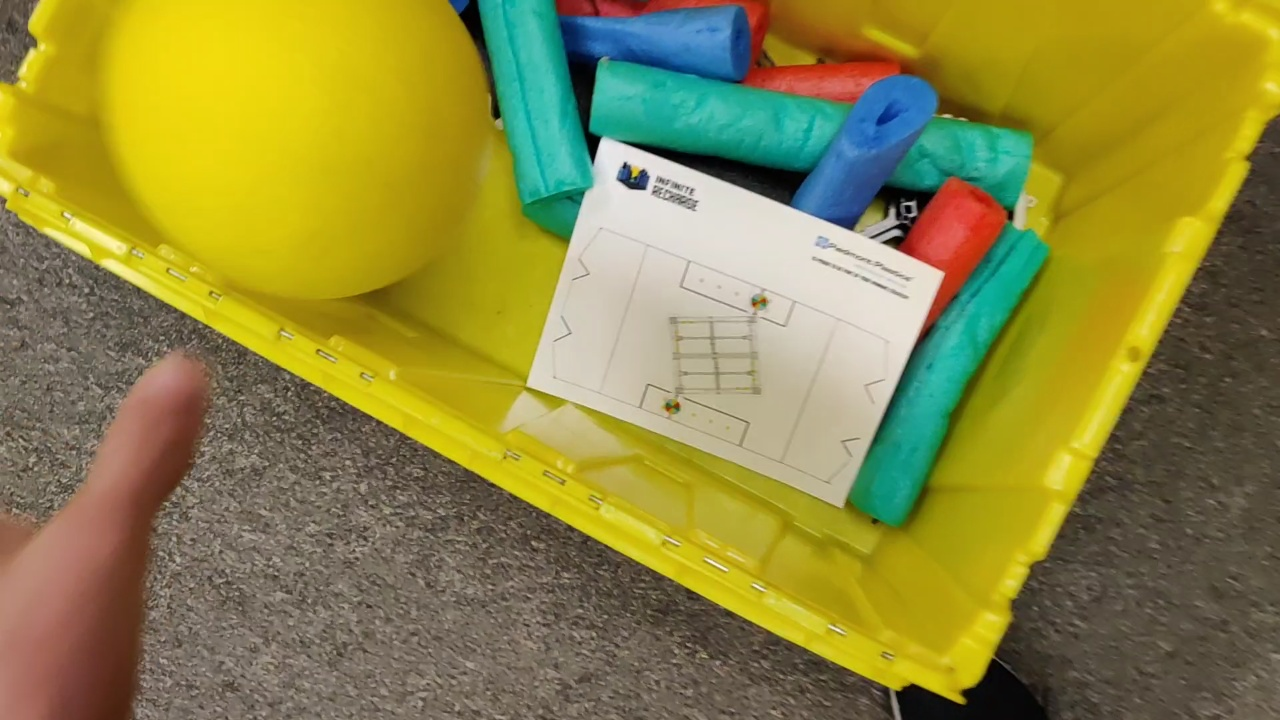Ball: (101, 1, 496, 297)
